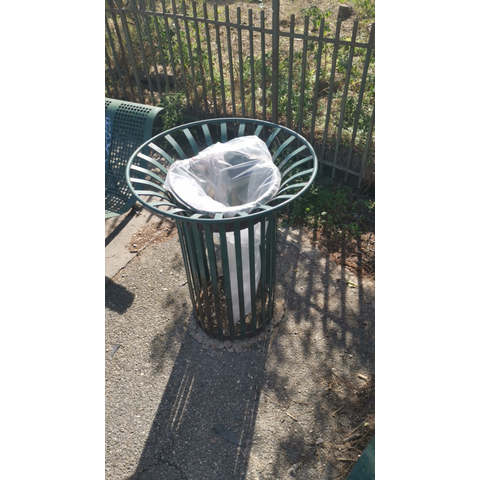poubelle: (121, 103, 323, 351)
